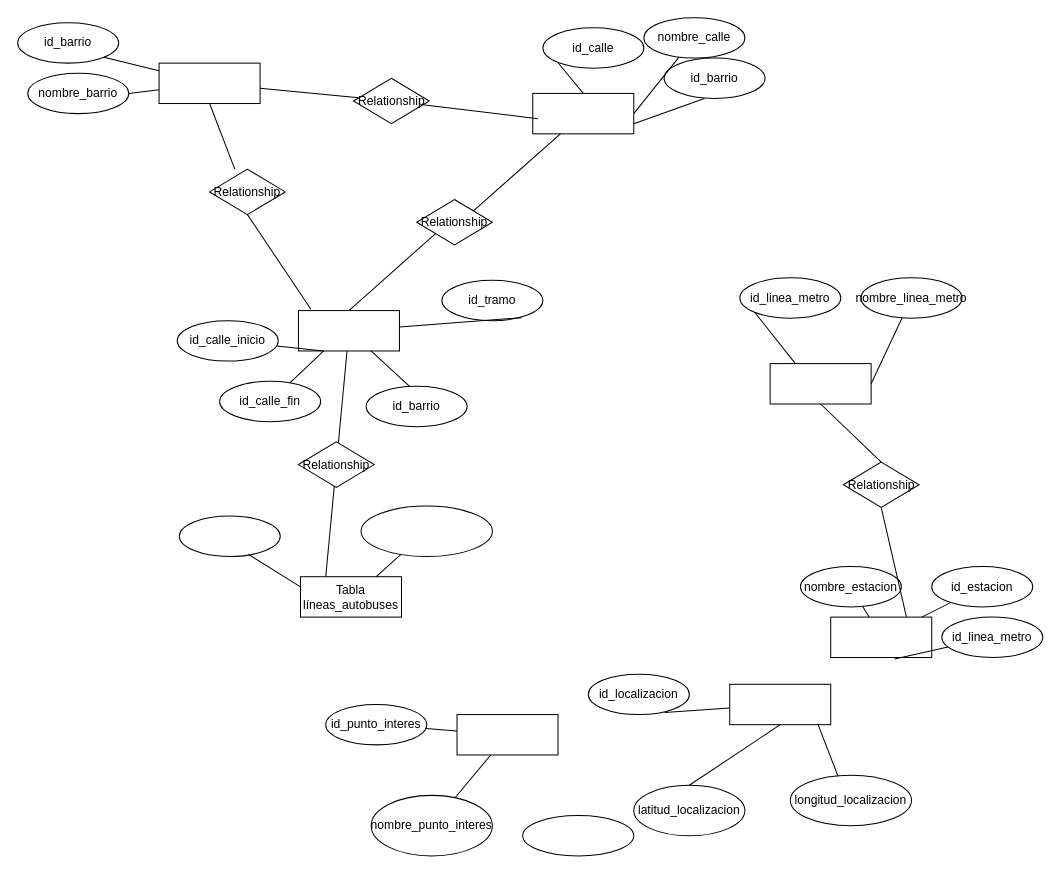
Image size: 1061x874. Some labels were removed from this diagram. Here are the shapes that lost their labels. From the top down, the centre of each, then its label:
pixel 209 83: Tabla Barrios
pixel 583 113: Tabla Calles
pixel 348 330: Tabla Tramos
pixel 820 383: Tabla lineas_metro
pixel 229 536: id_linea_autobus
pixel 426 531: nombre_linea_autobus
pixel 881 637: Tabla estaciones
pixel 780 704: Tabla localizaciones
pixel 507 734: Tabla puntos_interes
pixel 578 835: tipo_punto_interes
